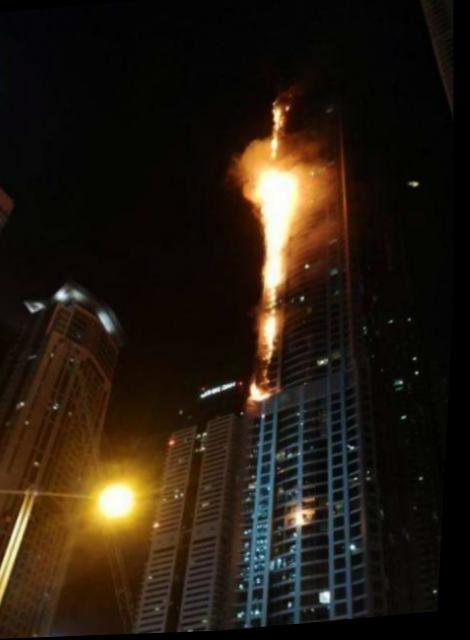fire: (227, 96, 316, 404)
